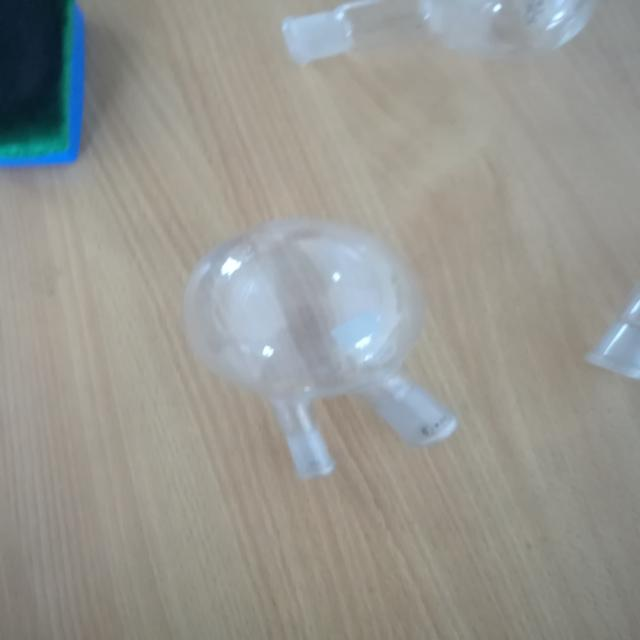Round_Bottom_Flask_Borosilicate_Glass_2_Neck: (149, 200, 483, 494)
